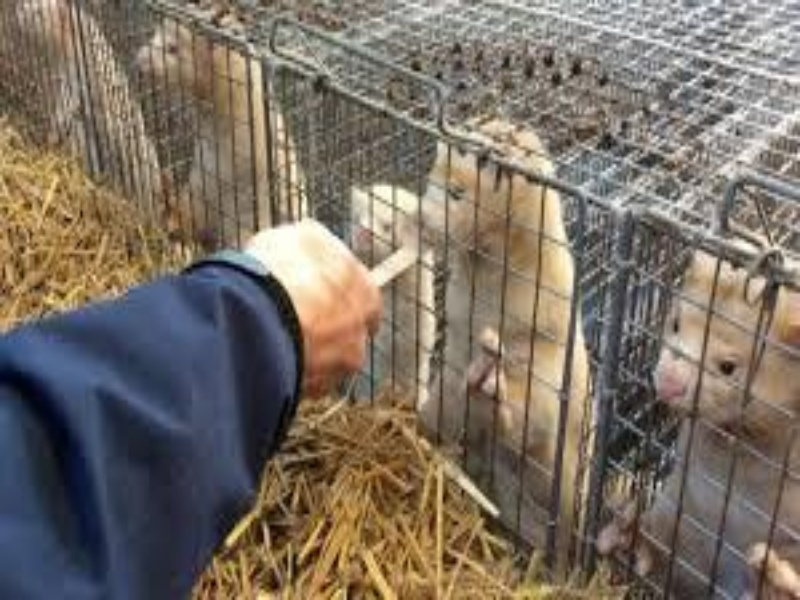minkish: (429, 117, 592, 563), (600, 234, 798, 594), (138, 7, 310, 278), (10, 1, 167, 216), (338, 181, 433, 396)
